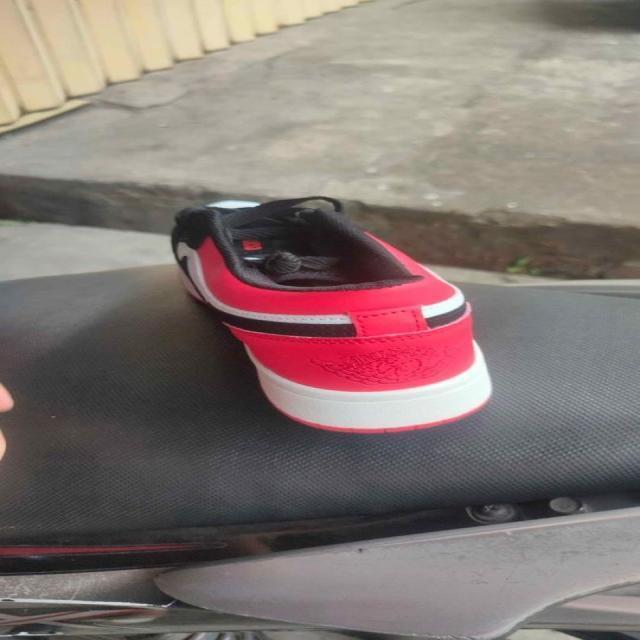nike fake jordan 1: (172, 196, 518, 438)
